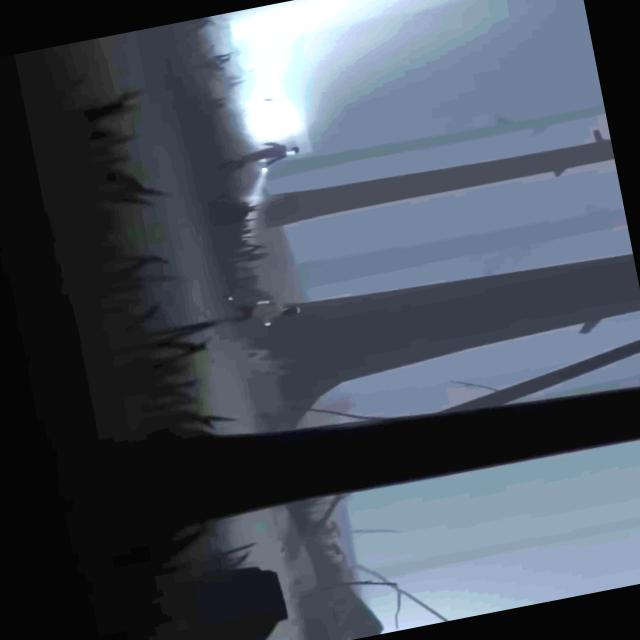boy: (222, 283, 300, 332)
